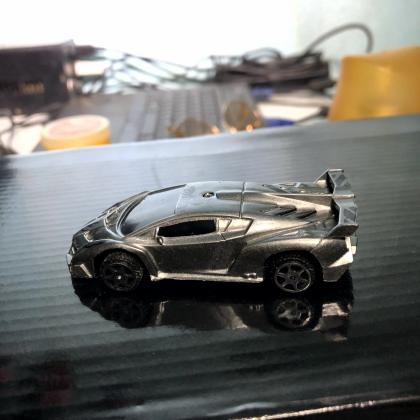Car: (61, 164, 365, 303)
